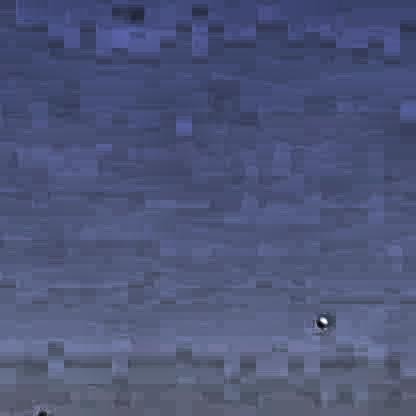golfball: (314, 315, 325, 326)
